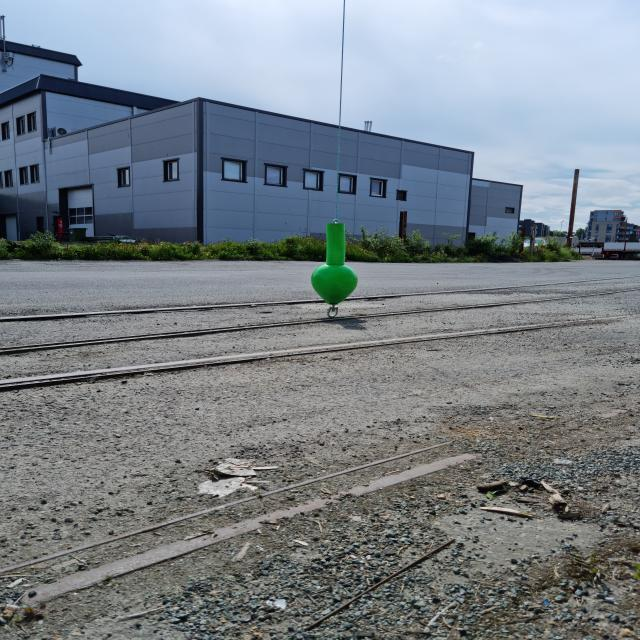green: (311, 221, 358, 306)
